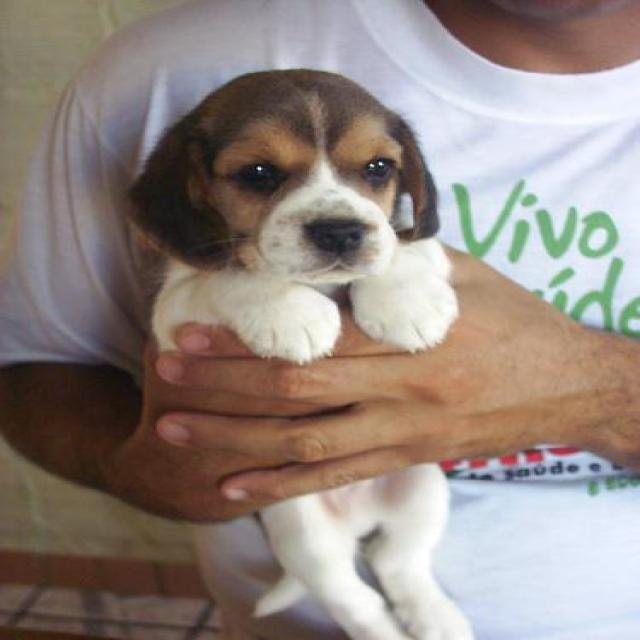beagle: (128, 72, 480, 638)
